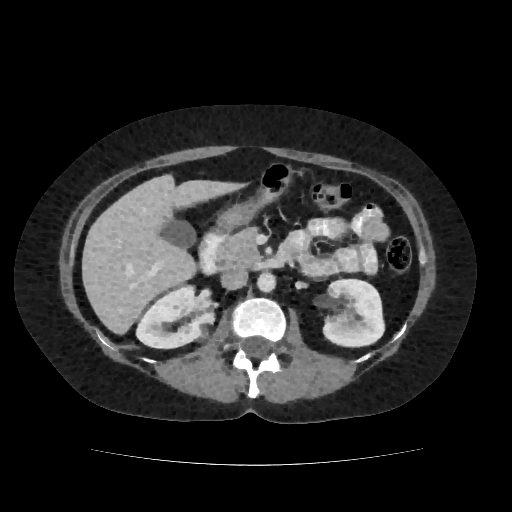Lesion: (195, 320, 217, 342)
